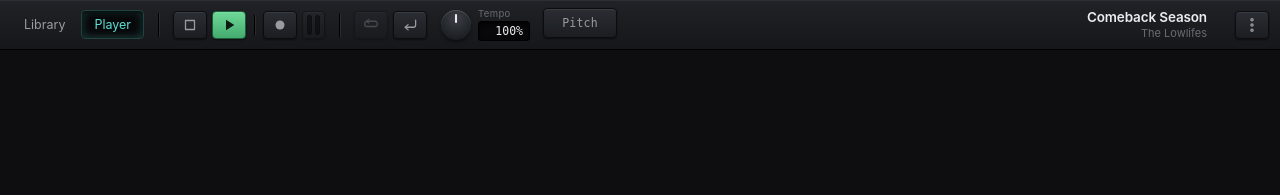
Test case: the song name in the header › keeps every character typed into the name
Click the button with aria-label "Song name and artist" at (1147, 17), box [624,6,1214,43]
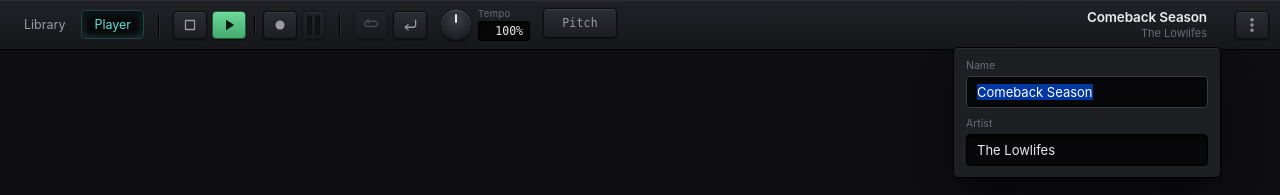
Clear the field labelled "Name" at (1087, 92), box [966,76,1208,108]
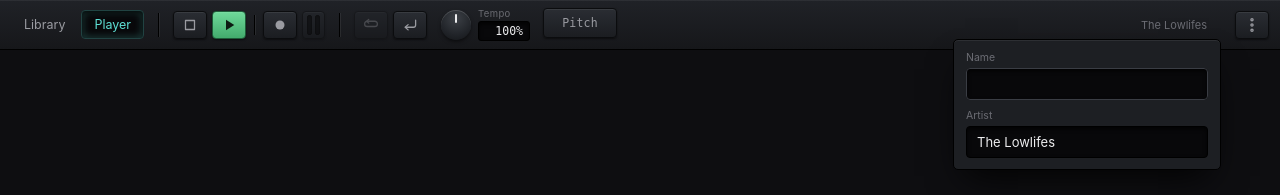
Type "Coast Road" into the field labelled "Name" at (1087, 84), box [966,68,1208,100]
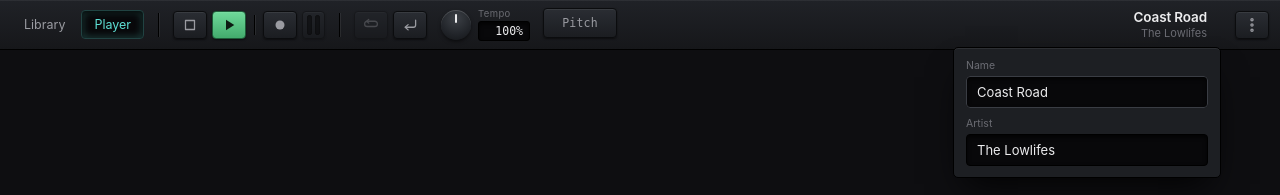
Now the text "Coast Road" is shown, box [1134,9,1207,25]
